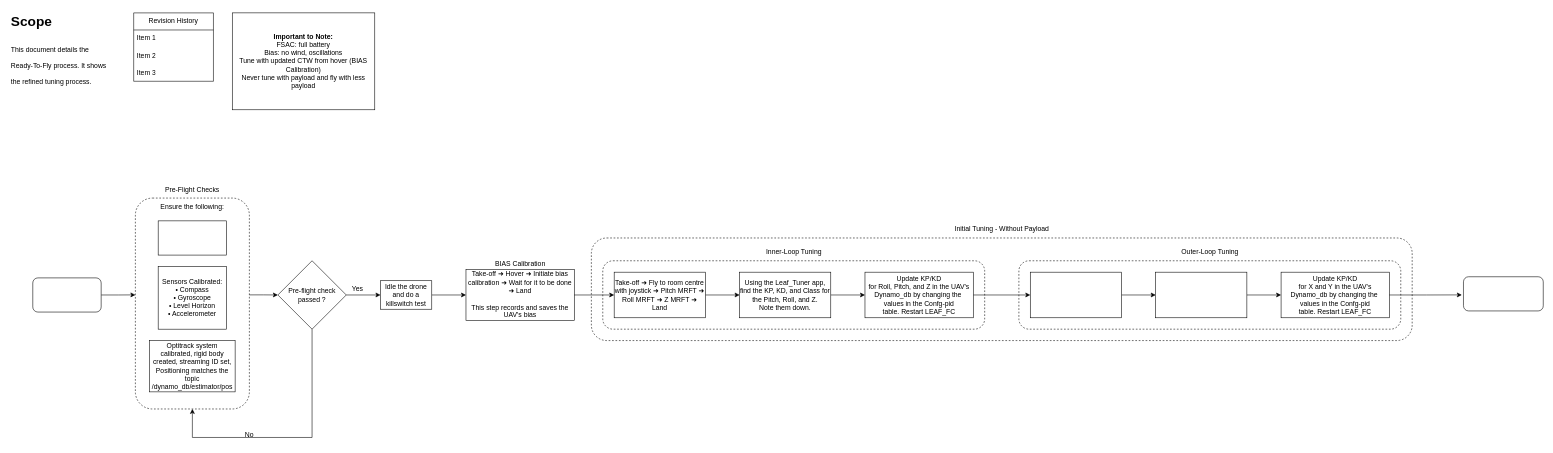
Image size: 1553x453. Some labels were removed from this diagram. The shapes that lost their labels are listed below. From the top down, each one's centre as x and y in pixels, then its label:
point 192,237: Motors Calibrated and correct PWM set
point 66,294: Start (Ready-to-Fly)
point 1075,295: Take-off ➜ Fly to room centre with joystick ➜ X MRFT ➜ Y MRFT ➜ Land
point 1201,295: Using the Leaf_Tuner app, find the KP and KD for the X and Y. Note them down.
point 1503,293: Finish Drone Ready to Fly 😊
